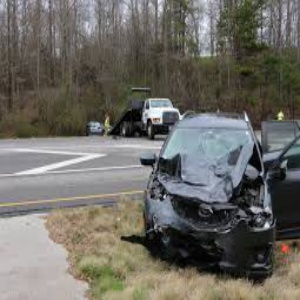bonnet: (162, 147, 252, 203)
bumper: (178, 221, 279, 279)
